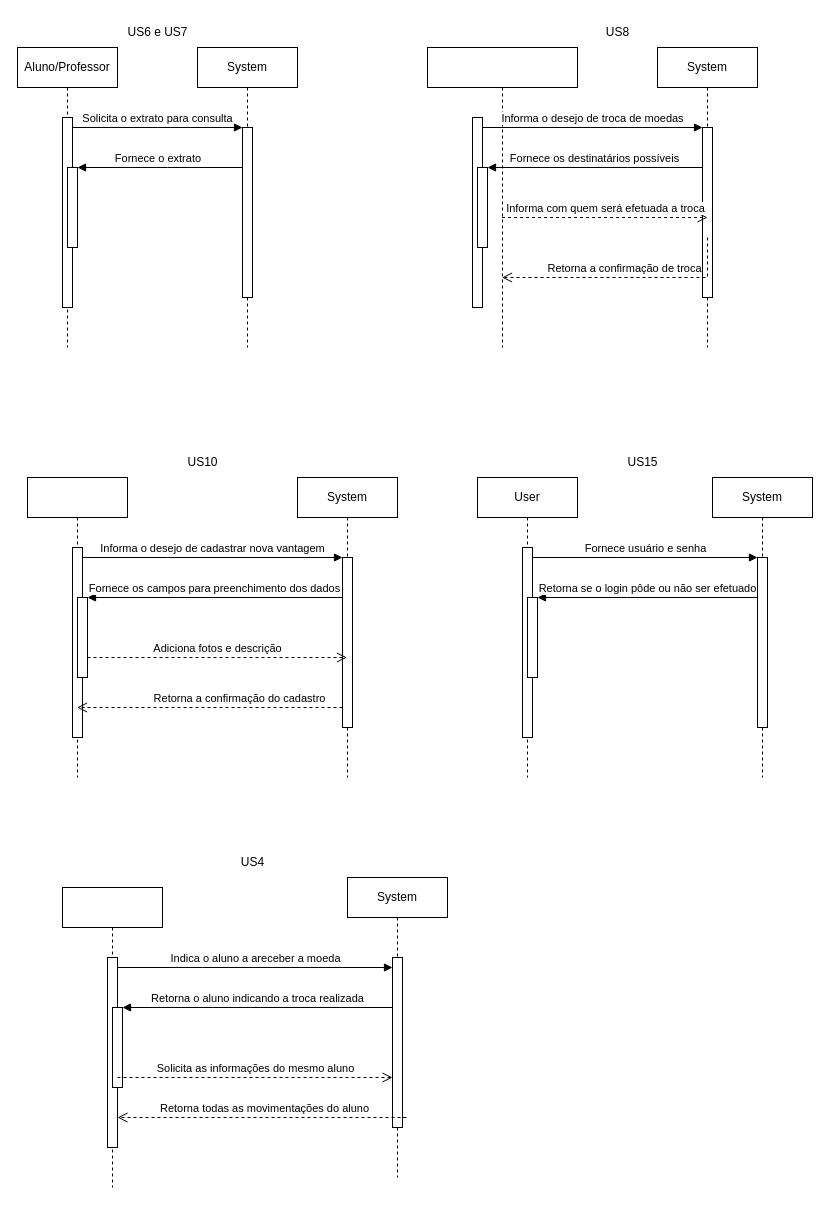
This 830x1205 diagram has some shape labels left out. The box of each missing label's shape, as (x1, y1, x2, y2) in pixels:
Aluno: (426, 46, 578, 348)
Empresa: (26, 476, 128, 778)
Professor: (62, 886, 162, 1188)
